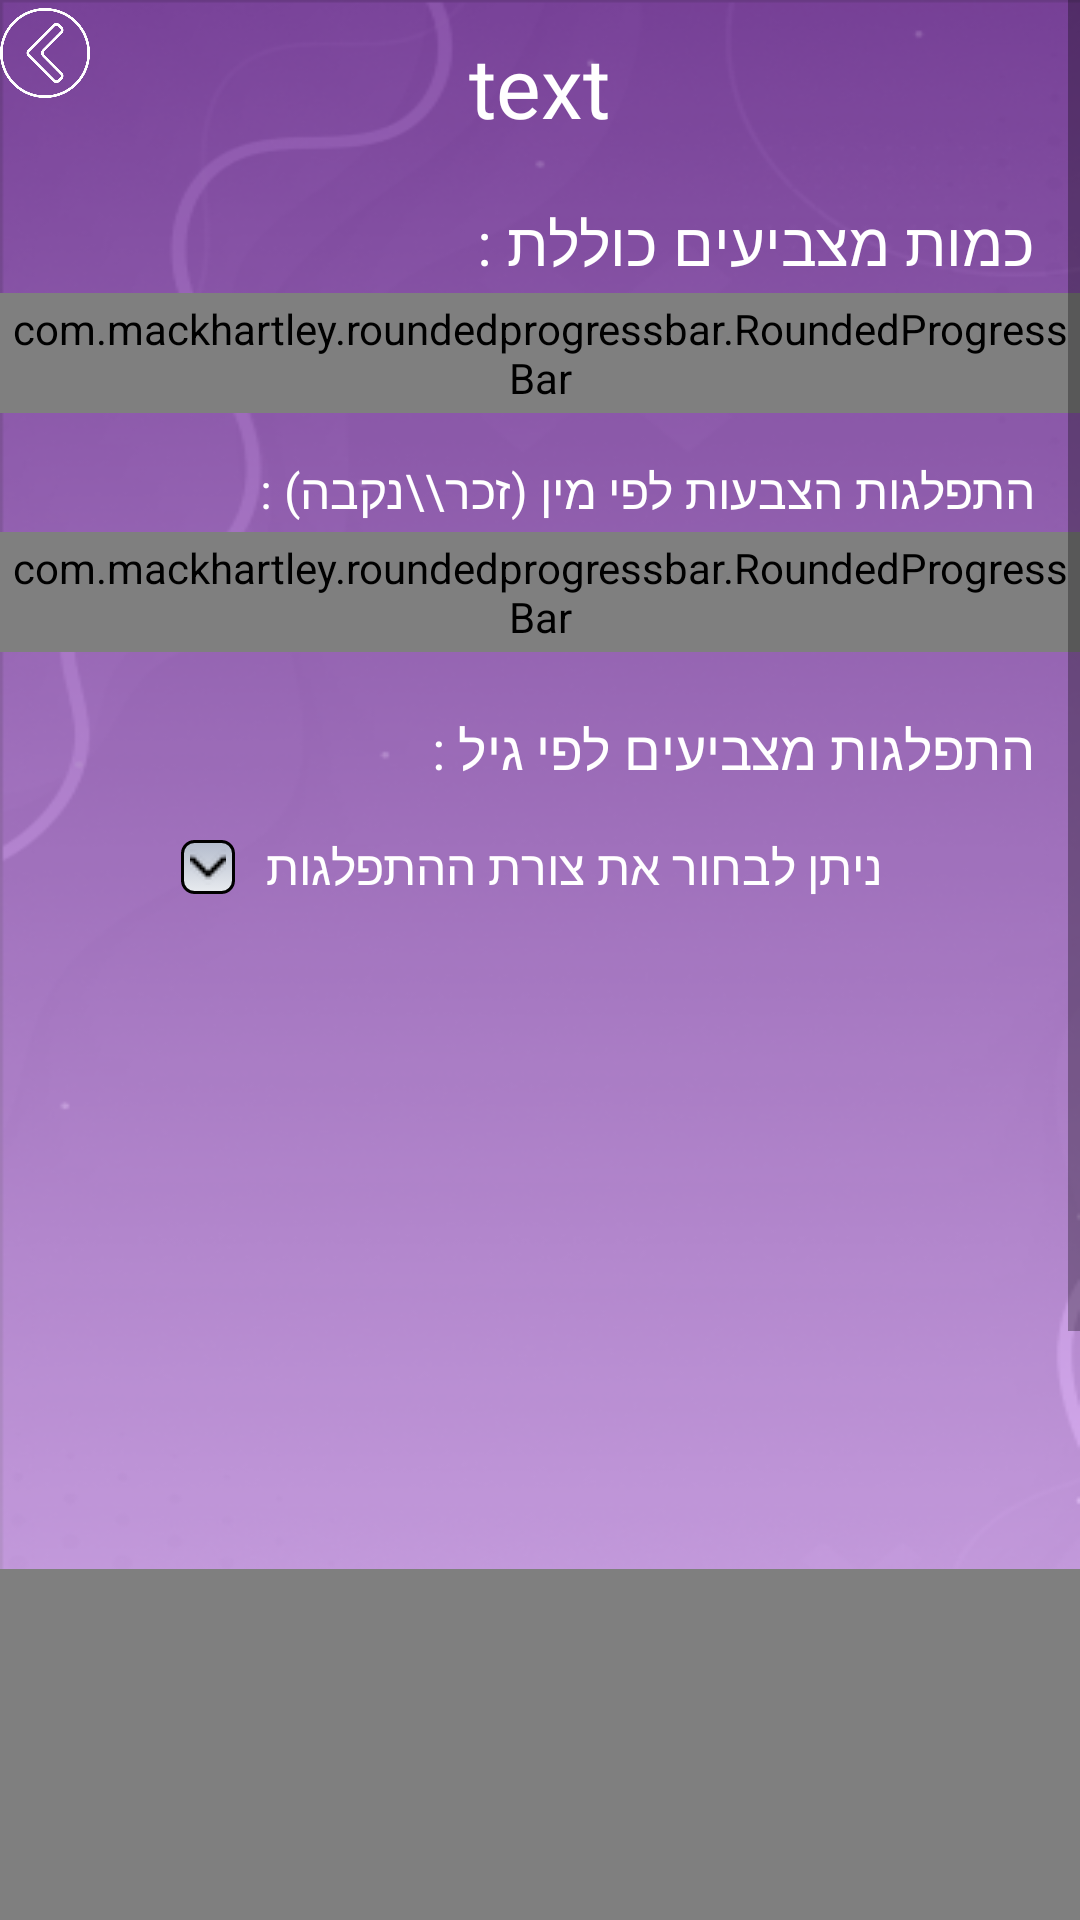

Where icons sit on this 1080*1920 app screen, as box(x1, y1, x2, y2):
arrow back: box(0, 8, 90, 98)
